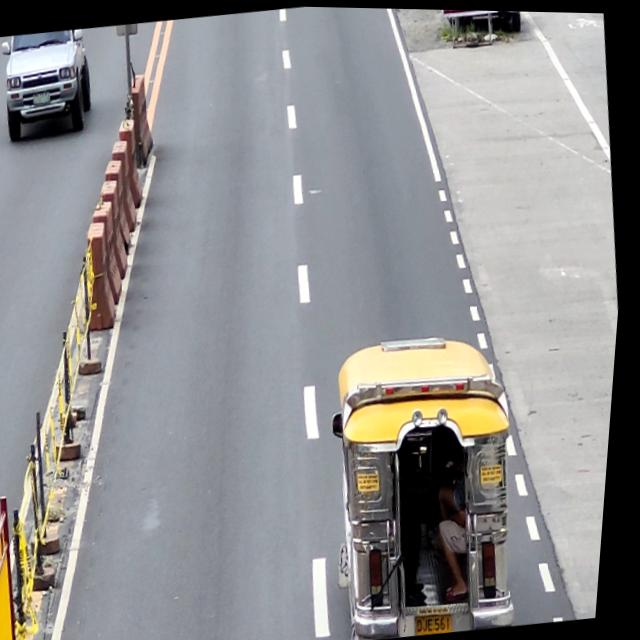Jeep: (313, 319, 547, 640)
License-Plate: (421, 609, 464, 634)
